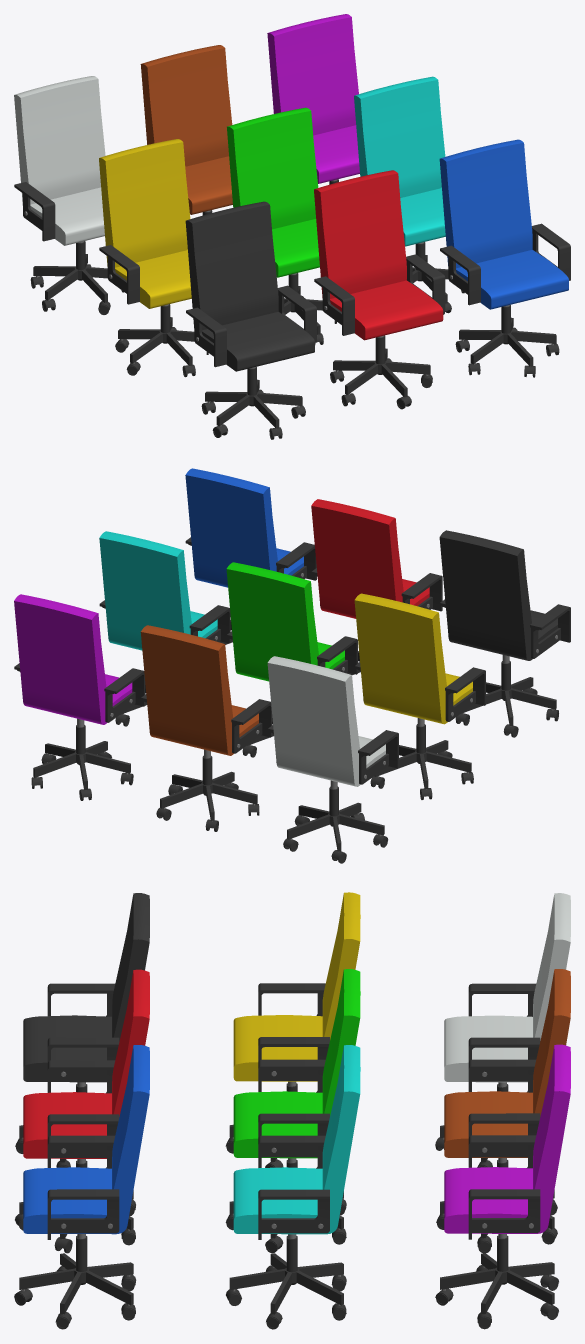
The model's file is simple_office_chair.fbx.
The picture shows the model from 3 angles, top to bottom: view 1: azimuth 30°, elevation 25°; view 2: azimuth 150°, elevation 25°; view 3: azimuth 270°, elevation 25°; orthographic projection. The views are drawn at different scales.
Parts seen in each view (by area): view 1: simple_office_chair.001, simple_office_chair.002, simple_office_chair, simple_office_chair.003, simple_office_chair.006, simple_office_chair.004, simple_office_chair.005, simple_office_chair.007, simple_office_chair.008; view 2: simple_office_chair.006, simple_office_chair.007, simple_office_chair.008, simple_office_chair.003, simple_office_chair, simple_office_chair.001, simple_office_chair.005, simple_office_chair.004, simple_office_chair.002; view 3: simple_office_chair.005, simple_office_chair.008, simple_office_chair.002, simple_office_chair.004, simple_office_chair.003, simple_office_chair.007, simple_office_chair.001, simple_office_chair, simple_office_chair.006.
Boxes of the visible parts, x1,y1,x2,y2 form: simple_office_chair.001: (314,170,445,397); simple_office_chair.002: (439,139,570,366); simple_office_chair: (185,201,316,428); simple_office_chair.003: (99,139,194,365); simple_office_chair.006: (14,76,107,302); simple_office_chair.004: (227,107,322,334); simple_office_chair.005: (354,76,448,303); simple_office_chair.007: (140,45,232,215); simple_office_chair.008: (267,14,359,184); simple_office_chair.006: (267,656,398,851); simple_office_chair.007: (140,625,272,820); simple_office_chair.008: (14,594,145,789); simple_office_chair.003: (354,593,485,788); simple_office_chair: (439,530,570,725); simple_office_chair.001: (311,499,442,675); simple_office_chair.005: (99,531,230,714); simple_office_chair.004: (226,562,357,745); simple_office_chair.002: (185,468,316,644); simple_office_chair.005: (229,1045,360,1314); simple_office_chair.008: (440,1044,570,1314); simple_office_chair.002: (19,1045,149,1314); simple_office_chair.004: (229,969,360,1238); simple_office_chair.003: (229,892,360,1161); simple_office_chair.007: (440,969,570,1238); simple_office_chair.001: (19,969,149,1239); simple_office_chair: (19,893,149,1162); simple_office_chair.006: (440,893,570,1162).
Size of the model in its own units: 2.8 by 1.31 by 2.54.
